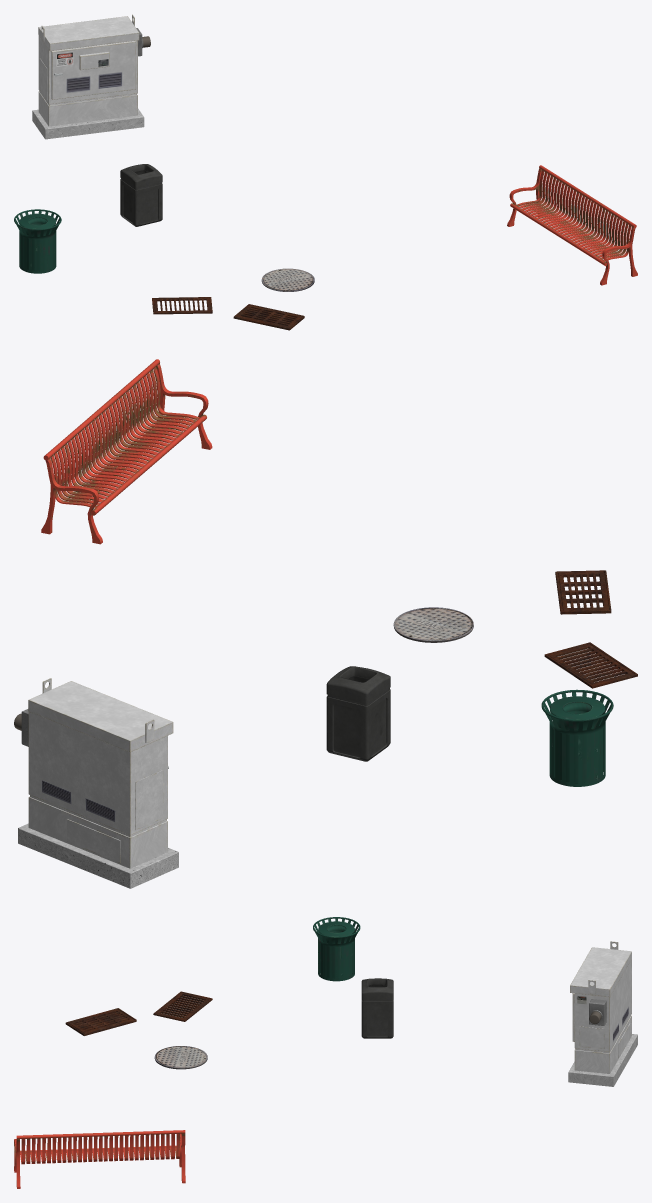
Rendered from gatuprylar.gltf.
The picture shows the model from 3 angles, top to bottom: view 1: azimuth 30°, elevation 25°; view 2: azimuth 150°, elevation 25°; view 3: azimuth 270°, elevation 25°; orthographic projection. The views are drawn at different scales.
Parts seen in each view (by area): view 1: Utility, ParkBenchLong, TrashCommercial, TrashCanLarge, StormDrain, Manhole, Drain; view 2: Utility, ParkBenchLong, TrashCommercial, TrashCanLarge, Manhole, Drain, StormDrain; view 3: Utility, ParkBenchLong, TrashCanLarge, TrashCommercial, StormDrain, Manhole, Drain.
Boxes of the visible parts, <box> form: Utility: <box>32,14,150,139</box>; ParkBenchLong: <box>507,165,637,285</box>; TrashCommercial: <box>120,164,162,226</box>; TrashCanLarge: <box>14,209,61,273</box>; StormDrain: <box>233,304,304,330</box>; Manhole: <box>261,268,314,291</box>; Drain: <box>152,297,212,314</box>; Utility: <box>14,678,178,888</box>; ParkBenchLong: <box>41,359,212,544</box>; TrashCommercial: <box>326,666,390,761</box>; TrashCanLarge: <box>541,689,613,786</box>; Manhole: <box>393,607,473,642</box>; Drain: <box>544,642,637,688</box>; StormDrain: <box>555,570,611,614</box>; Utility: <box>568,941,637,1086</box>; ParkBenchLong: <box>14,1130,185,1188</box>; TrashCanLarge: <box>313,917,360,981</box>; TrashCommercial: <box>361,978,393,1038</box>; StormDrain: <box>65,1008,136,1035</box>; Manhole: <box>154,1046,207,1069</box>; Drain: <box>153,991,212,1021</box>.
Bounding box in the file's own units: 10 × 2.13 × 11.72.
Materials: 7 (7 with a texture image).
